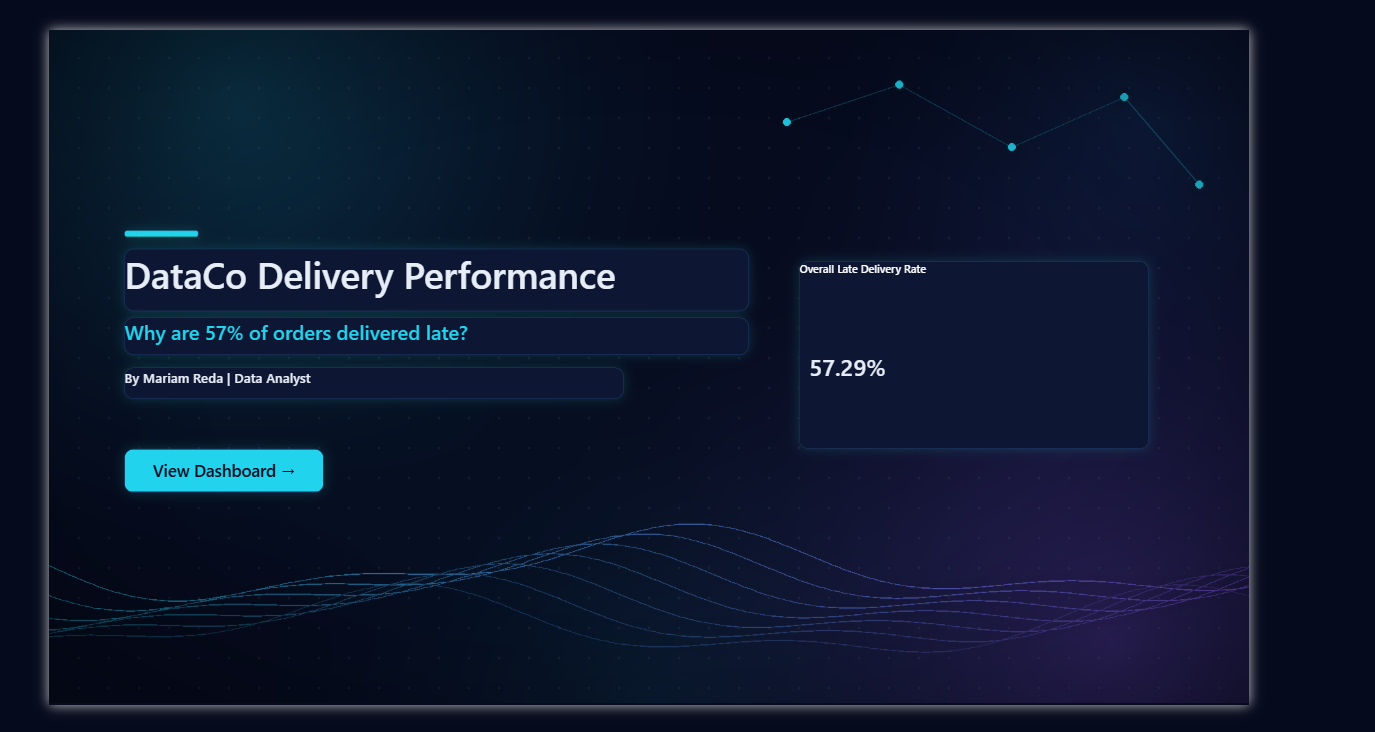

The dashboard page shown, as its layout file describes it:
{"tool":"powerbi","page":{"name":"Cover","canvas":[1920,1080],"ordinal":0},"visuals":[{"type":"textbox","box":[120,350,1000,100],"z":0},{"type":"textbox","box":[120,460,1000,60],"z":1000},{"type":"textbox","box":[120,540,800,50],"z":2000},{"type":"shape","box":[120,320,120,12],"z":3000},{"type":"cardVisual","title":"Overall Late Delivery Rate","fields":{"Data":["Avg(dataco_clean.late_delivery_risk)"]},"box":[1200,370,560,300],"z":4000},{"type":"actionButton","box":[120,670,320,70],"z":5000}]}

Visuals, with their boxes on the page's 1920x1080 design canvas (x1, y1, x2, y2). These are canvas units, not pixel positions in the 1375x732 screenshot, which may show the page scaled, cropped or inside an application window:
textbox: bbox=[120, 350, 1120, 450]
textbox: bbox=[120, 460, 1120, 520]
textbox: bbox=[120, 540, 920, 590]
shape: bbox=[120, 320, 240, 332]
"Overall Late Delivery Rate" cardVisual: bbox=[1200, 370, 1760, 670]
actionButton: bbox=[120, 670, 440, 740]
